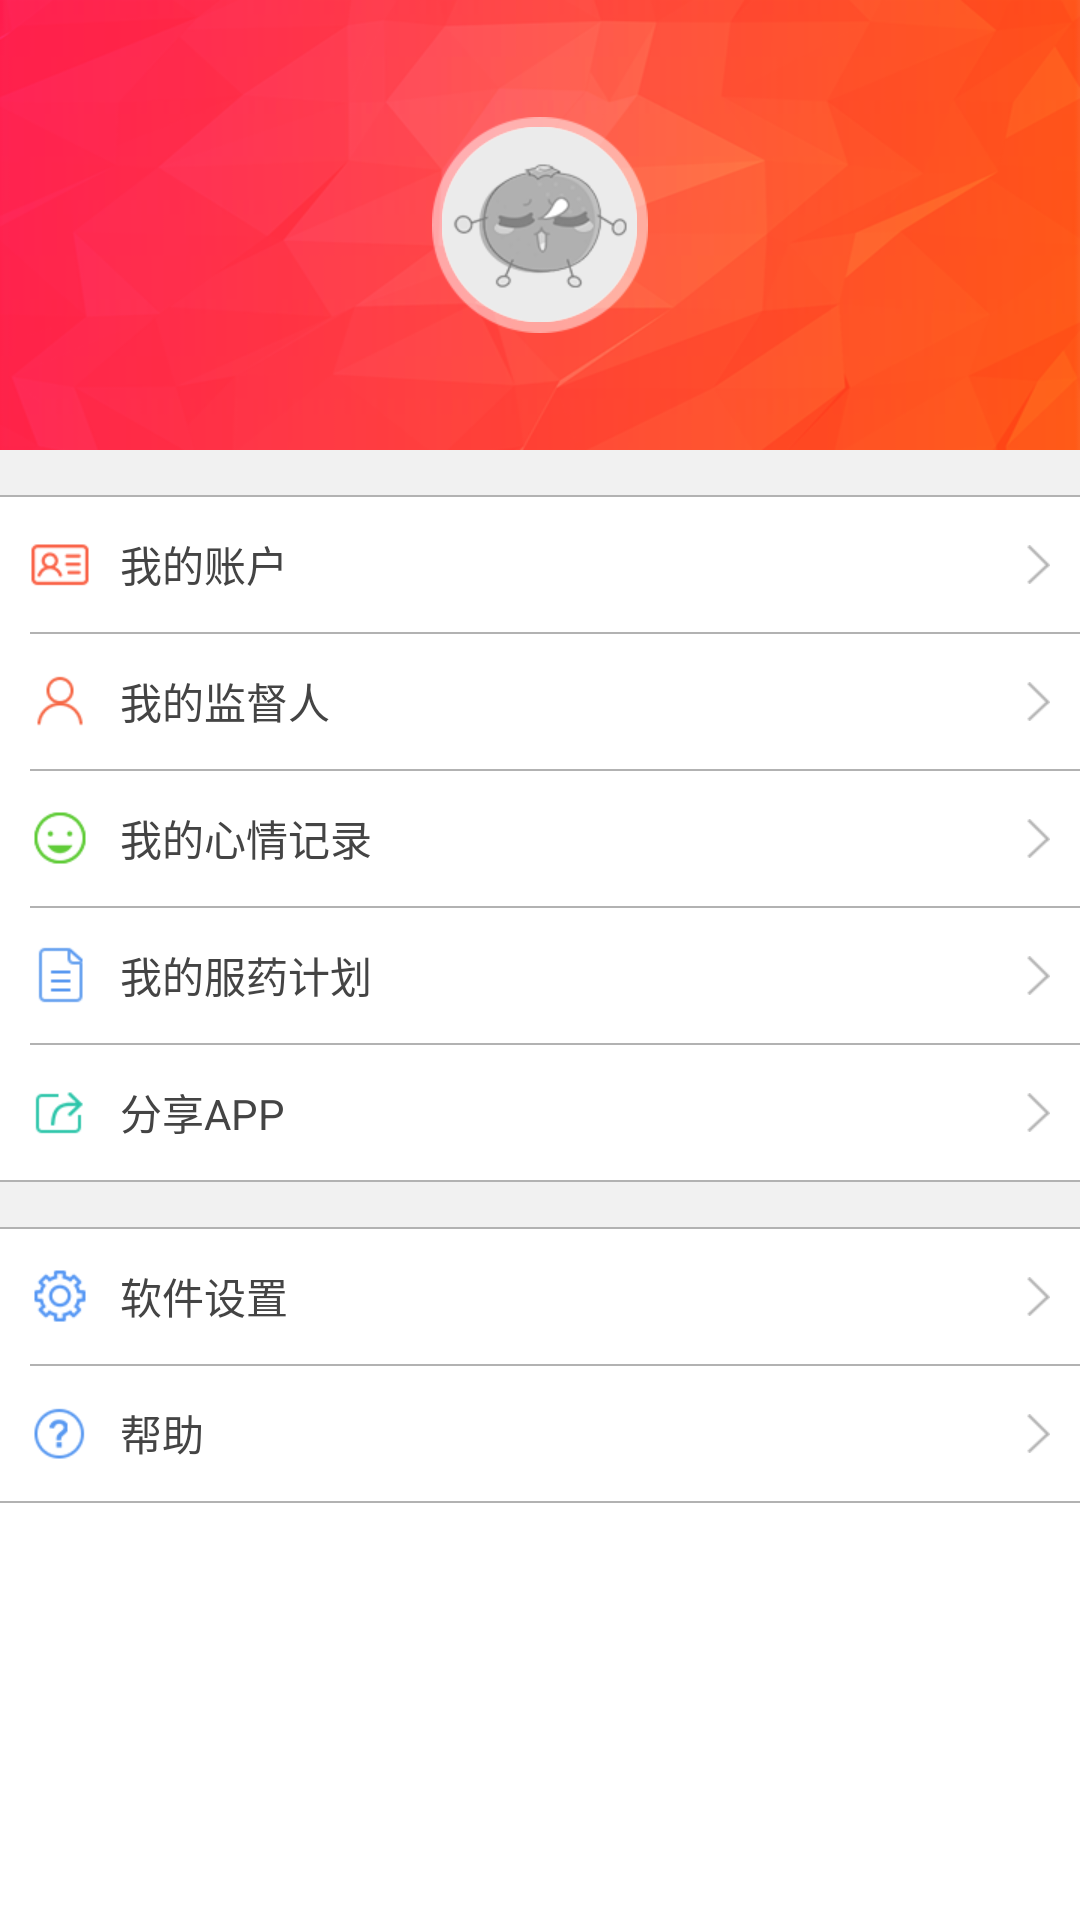

Locate icon controls on the screen. Image size 1080x1920, boxes as (x1, y1, x2, y2).
mine account: (31, 544, 89, 586)
mine guardian: (37, 676, 83, 725)
mine help: (34, 1408, 85, 1459)
mine mood: (34, 812, 86, 864)
mine plan: (38, 947, 83, 1003)
mine setting: (34, 1270, 86, 1322)
mine share: (35, 1092, 83, 1134)
more: (1028, 545, 1050, 584), (1028, 682, 1050, 721), (1028, 819, 1050, 858), (1028, 956, 1050, 995), (1028, 1093, 1050, 1132), (1028, 1277, 1050, 1316), (1028, 1414, 1050, 1453)
